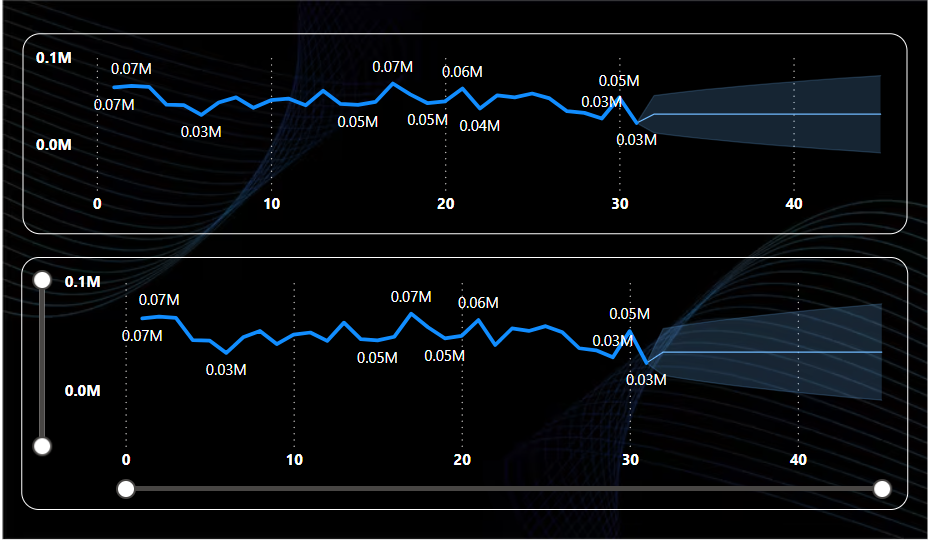

The page's visual inventory and layout, read from the dashboard file:
{"tool":"powerbi","page":{"name":"Page 2","canvas":[1280,720],"ordinal":1},"visuals":[{"type":"lineChart","fields":{"Category":["SALES FORECAST.Order Date.Variation.Date Hierarchy.Day"],"Y":["Sum(SALES FORECAST.TOTAL SALES)"]},"box":[285.7,168.6,708.6,161.4],"z":0},{"type":"lineChart","fields":{"Category":["SALES FORECAST.Order Date.Variation.Date Hierarchy.Day"],"Y":["Sum(SALES FORECAST.TOTAL SALES)"]},"box":[285,347.5,710,203.3],"z":1}]}

Visuals, with their boxes on the page's 1280x720 design canvas (x1, y1, x2, y2). These are canvas units, not pixel positions in the 932x541 screenshot, which may show the page scaled, cropped or inside an application window:
lineChart - SALES FORECAST.Order Date.Variation.Date Hierarchy.Day x Sum(SALES FORECAST.TOTAL SALES): box=[286, 169, 994, 330]
lineChart - SALES FORECAST.Order Date.Variation.Date Hierarchy.Day x Sum(SALES FORECAST.TOTAL SALES): box=[285, 348, 995, 551]
